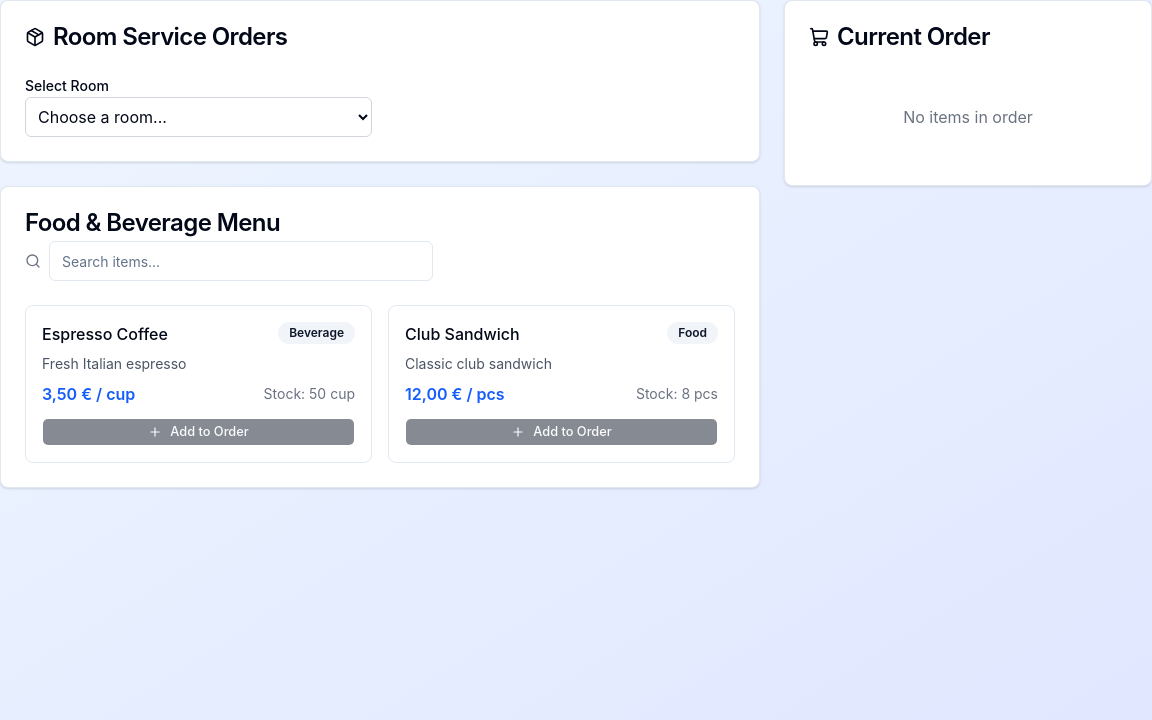
it: RoomServiceOrders › order item quantity management › removes item when quantity is decreased to 0
The image size is (1152, 720).
Select "Room 101 - BD" in the dropdown at point(198, 117), box left=25, top=97, right=372, bottom=137
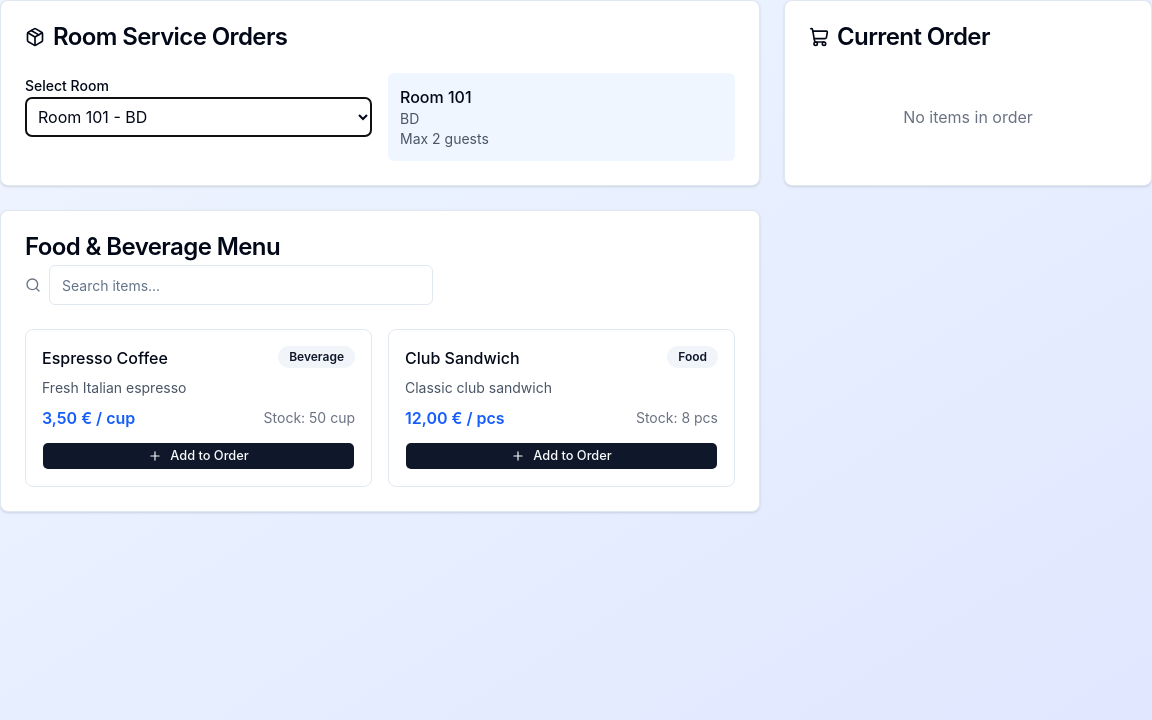
Click the button "Add to Order" below "3,50 €" at point(198, 456), box left=42, top=442, right=355, bottom=470
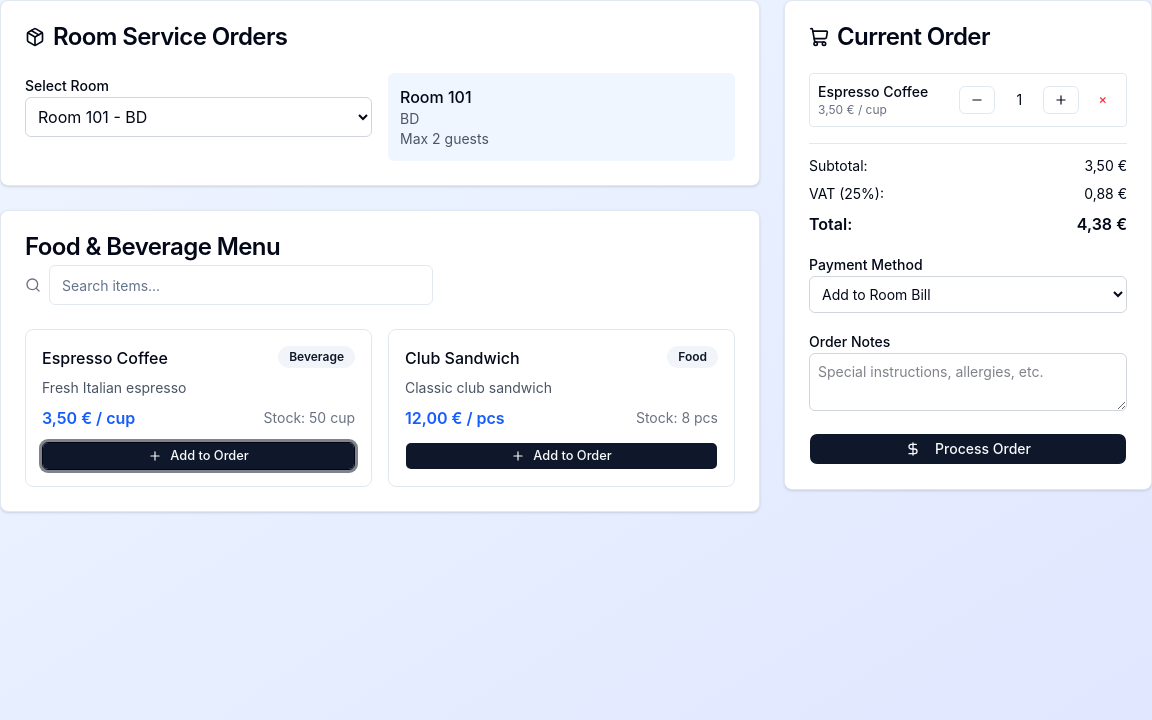
Click the 1st button at point(978, 100), box left=960, top=86, right=996, bottom=114
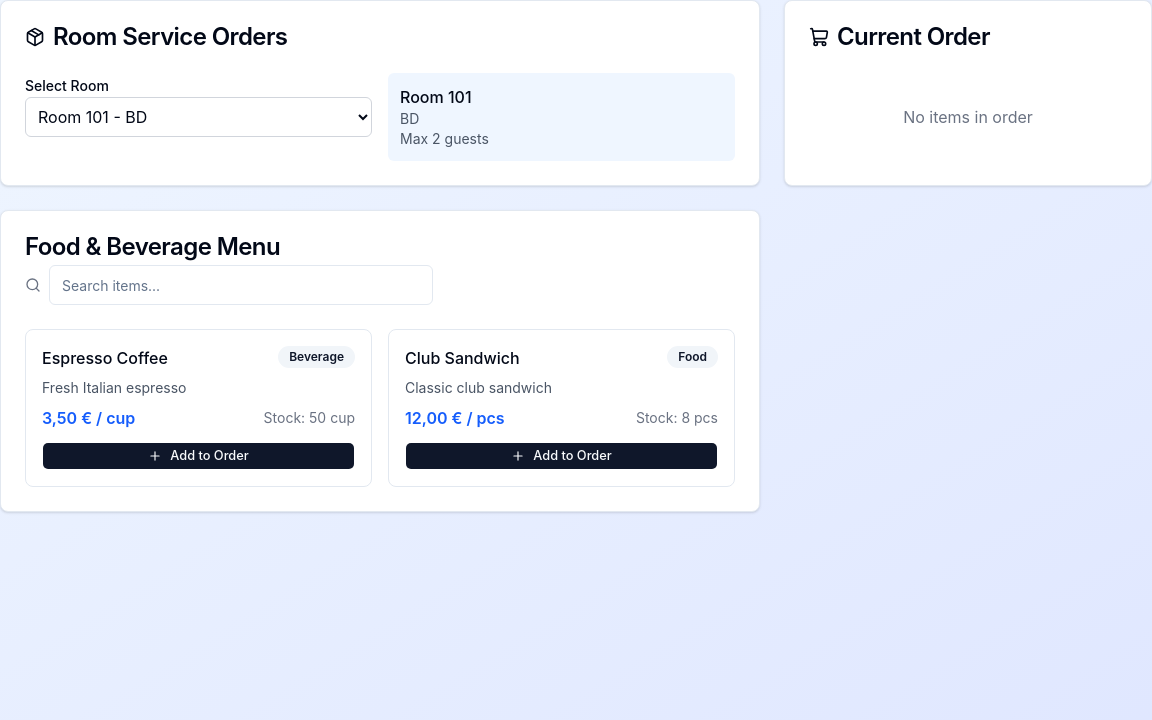
Expected: the text "No items in order" is shown, left=903, top=107, right=1033, bottom=127
